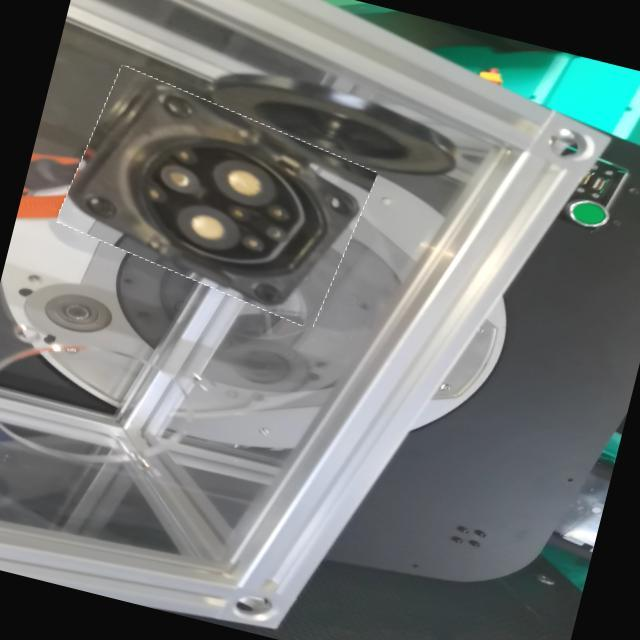GB-T: (96, 128, 347, 288)
